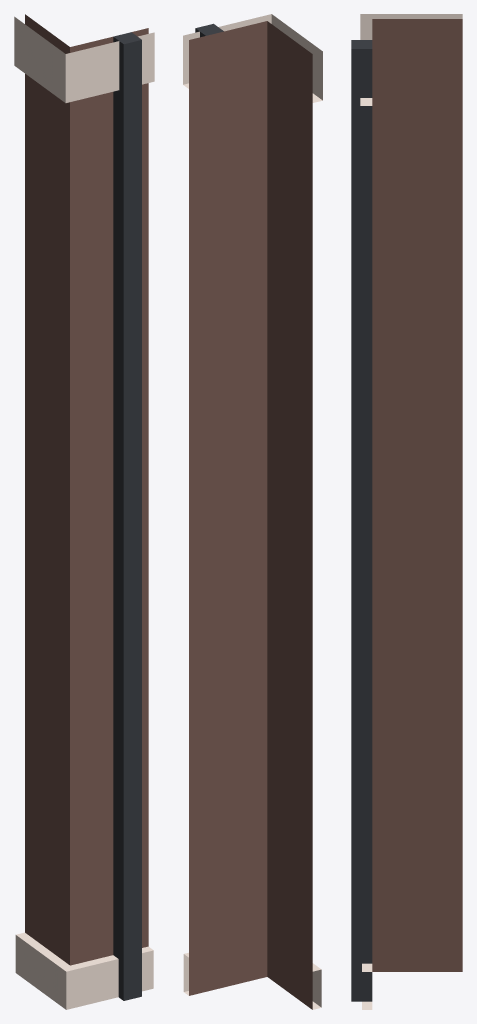
File: mid-c1.fbx
3 views of the same model, side by side, from view 1: azimuth 30°, elevation 25°; view 2: azimuth 210°, elevation 25°; view 3: azimuth 270°, elevation 25° (orthographic).
Parts seen in each view (by area): view 1: a2000s3/600/mid-c1; view 2: a2000s3/600/mid-c1; view 3: a2000s3/600/mid-c1.
Boxes of the visible parts, x1,y1,x2,y2 form: a2000s3/600/mid-c1: [14, 14, 154, 1009]; a2000s3/600/mid-c1: [183, 14, 322, 1009]; a2000s3/600/mid-c1: [351, 14, 462, 1009].
Size of the model in its own units: 0.34 by 3.5 by 0.37.
